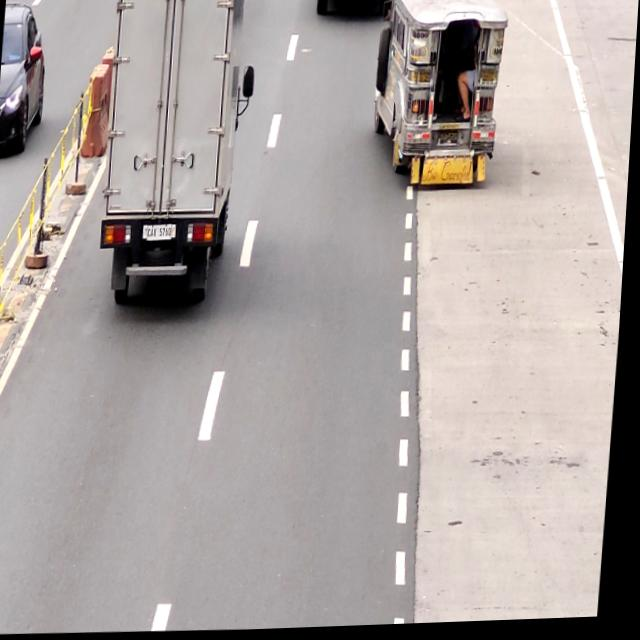Jeep: (371, 0, 505, 185)
License-Plate: (145, 225, 176, 248)
Truck: (97, 0, 246, 312)
